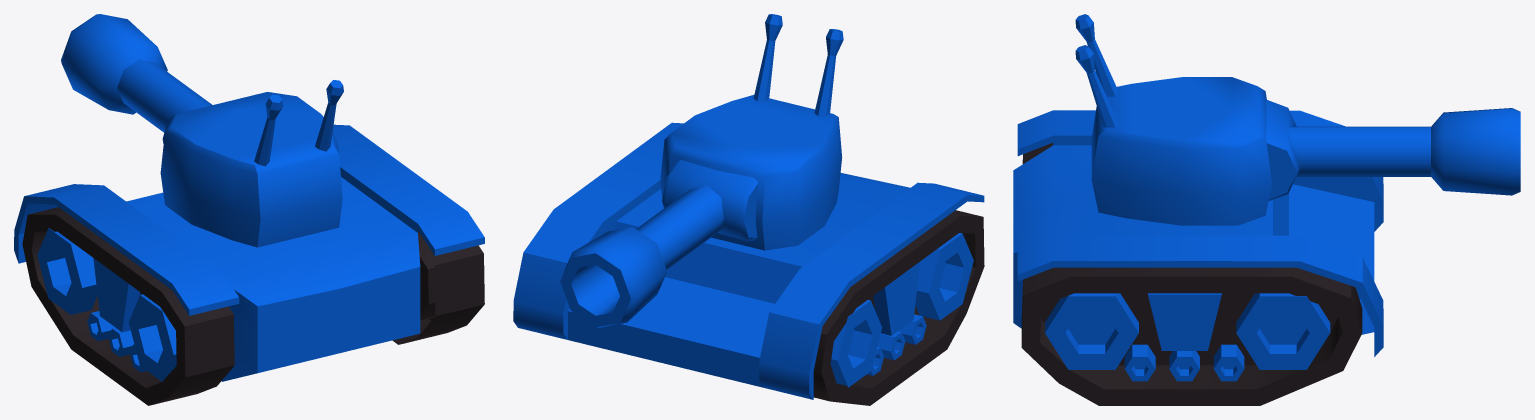
Rendered from tenk7.gltf.
3 renders of one model, left to right at view 1: azimuth 30°, elevation 25°; view 2: azimuth 150°, elevation 25°; view 3: azimuth 270°, elevation 25°, orthographic. The views are drawn at different scales.
Visible parts, largest first — view 1: Tenk; view 2: Tenk; view 3: Tenk.
Boxes of the visible parts, x1,y1,x2,y2 form: Tenk: (14,14,484,405); Tenk: (513,14,984,405); Tenk: (1013,14,1520,405).
Size of the model in its own units: 1.3 by 1.18 by 1.82.
